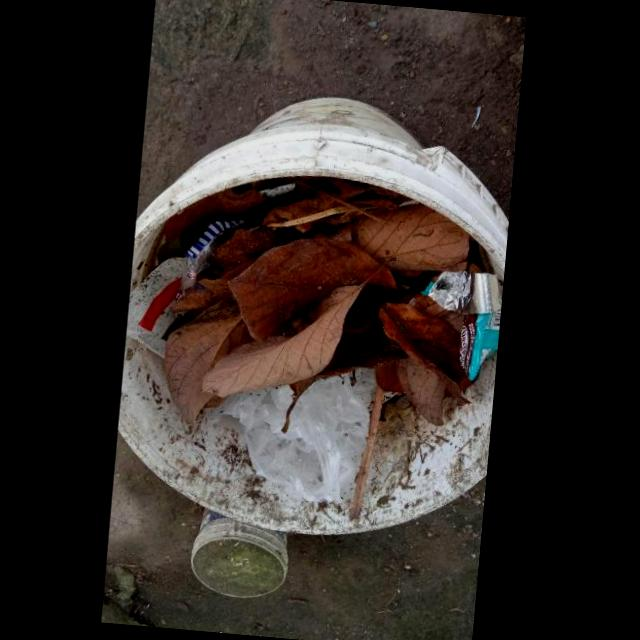bao_bi_thuc_pham: (125, 217, 245, 355), (428, 267, 501, 373)
la_cay: (224, 236, 398, 340), (204, 281, 359, 396), (370, 297, 474, 428), (160, 291, 235, 430), (337, 202, 467, 273), (168, 258, 250, 307)
tui_ni_long: (217, 365, 373, 494)
